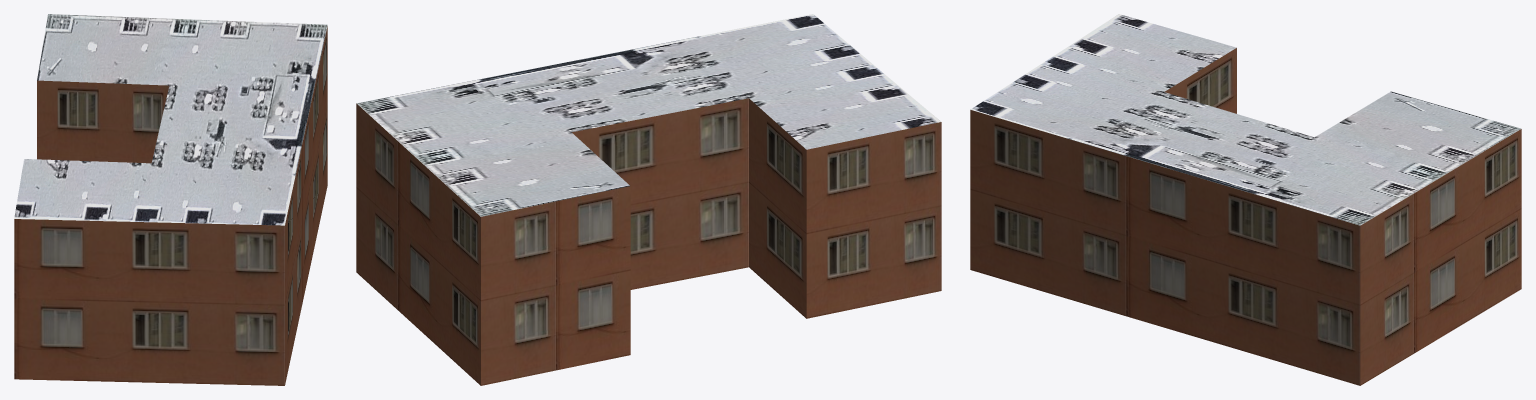
The model's file is ResTex__5222.fbx.
3 views of the same model, side by side, from view 1: azimuth 30°, elevation 25°; view 2: azimuth 150°, elevation 25°; view 3: azimuth 270°, elevation 25° (orthographic). The views are drawn at different scales.
Visible parts, largest first — view 1: CityEngineMaterial_20_m, CityEngineMaterial_m; view 2: CityEngineMaterial_20_m, CityEngineMaterial_m; view 3: CityEngineMaterial_20_m, CityEngineMaterial_m.
Part boxes in pixels (box(x1,y1,x2,y2)): CityEngineMaterial_20_m: box(14, 26, 327, 385); CityEngineMaterial_m: box(14, 14, 327, 225); CityEngineMaterial_20_m: box(356, 98, 941, 385); CityEngineMaterial_m: box(357, 14, 940, 216); CityEngineMaterial_20_m: box(970, 48, 1521, 385); CityEngineMaterial_m: box(970, 14, 1521, 225).
Bounding box in the file's own units: 17 × 6 × 18.72.
2 materials, 2 textured.
